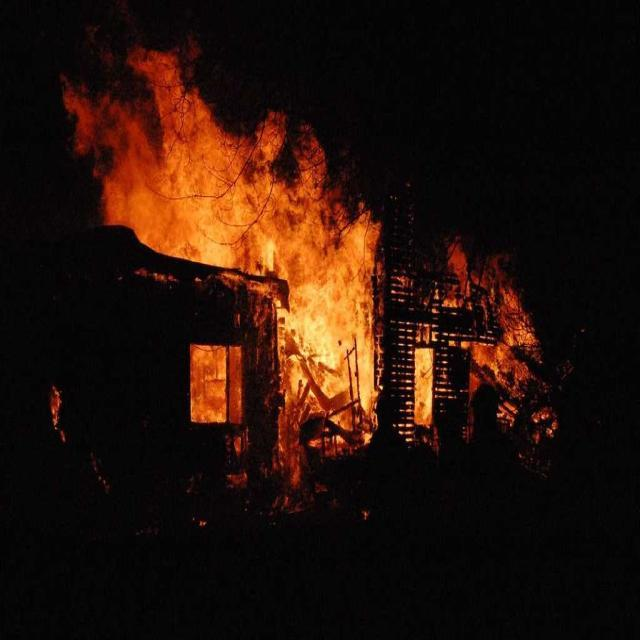Fire: (294, 273, 366, 374), (170, 140, 226, 256), (258, 184, 320, 262)
